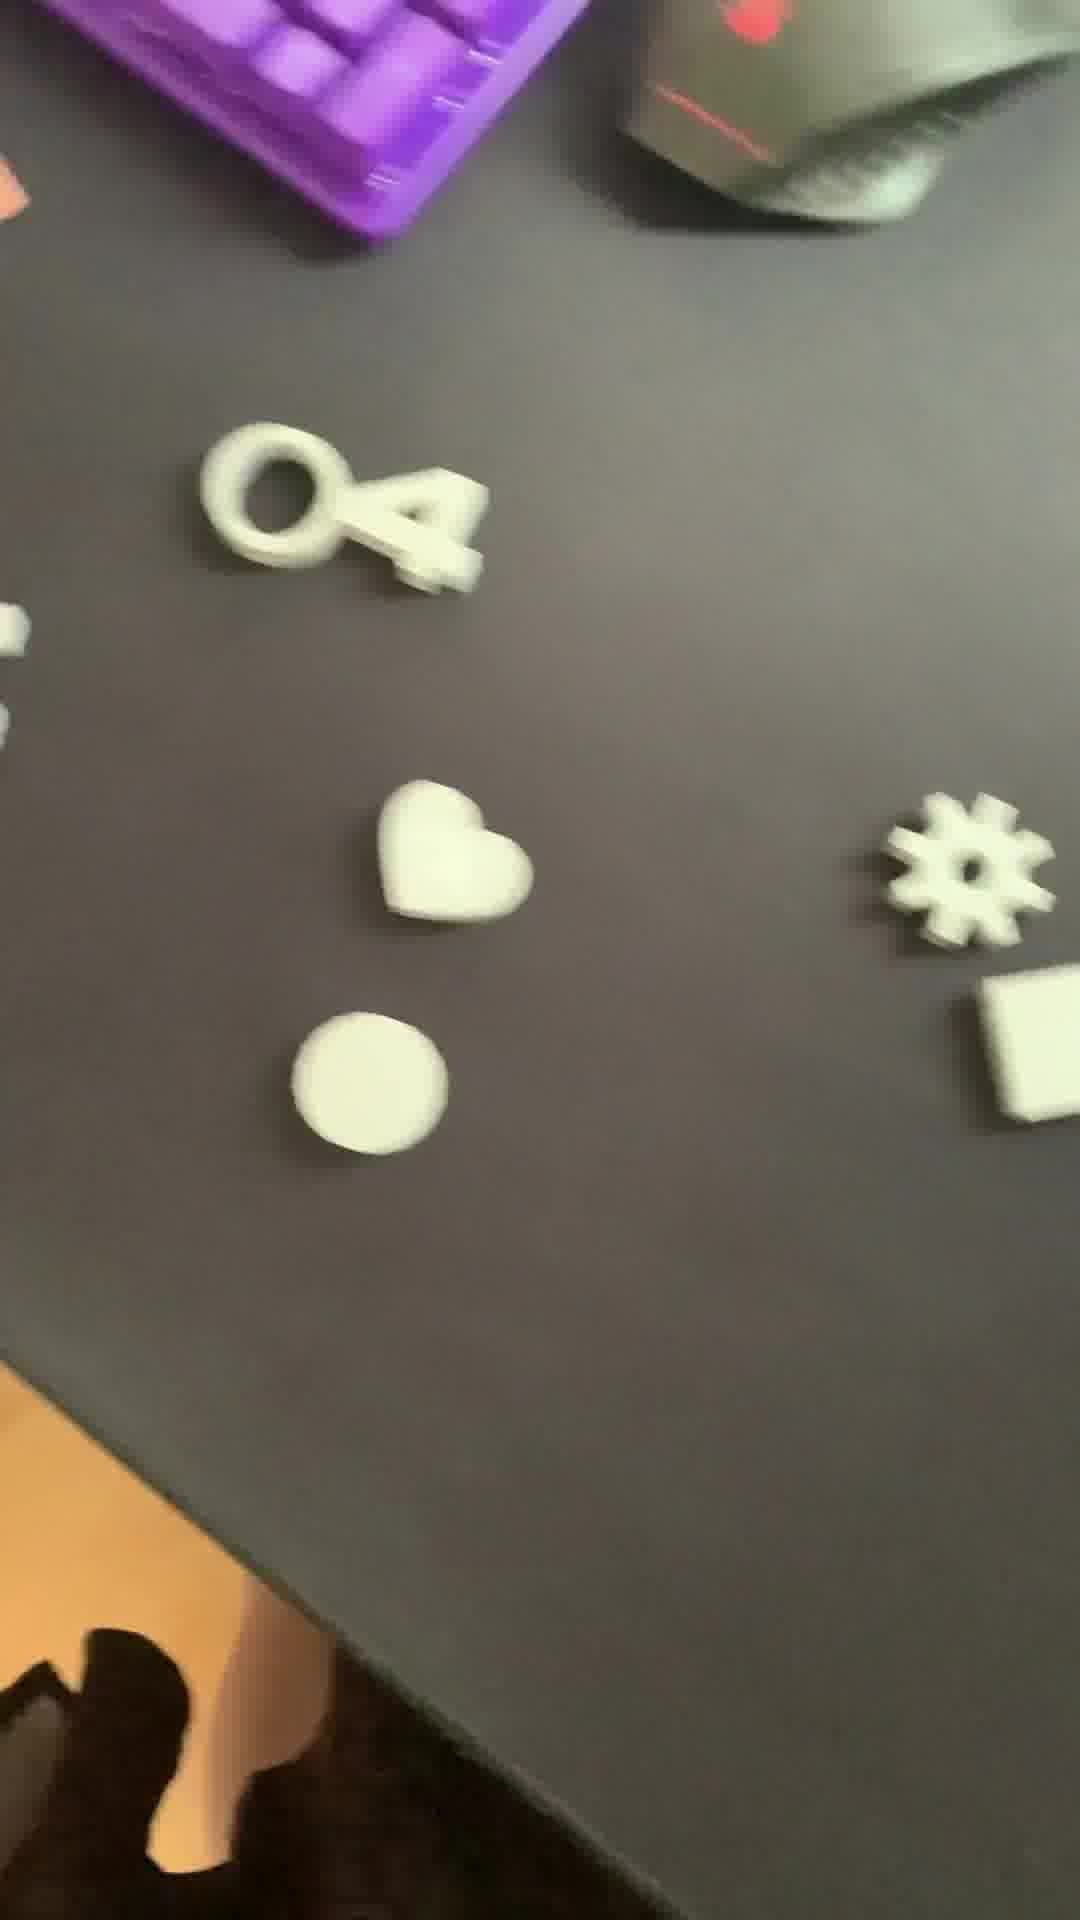Gray circle: (286, 1014, 456, 1182)
Gray four: (338, 467, 504, 595)
Gray gear: (882, 796, 1058, 949)
Gray heart: (371, 783, 541, 930)
Gray ring: (204, 429, 356, 571)
Gray square: (972, 963, 1080, 1150)
